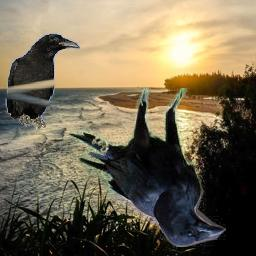Crow: (68, 89, 226, 248), (6, 33, 81, 130)
